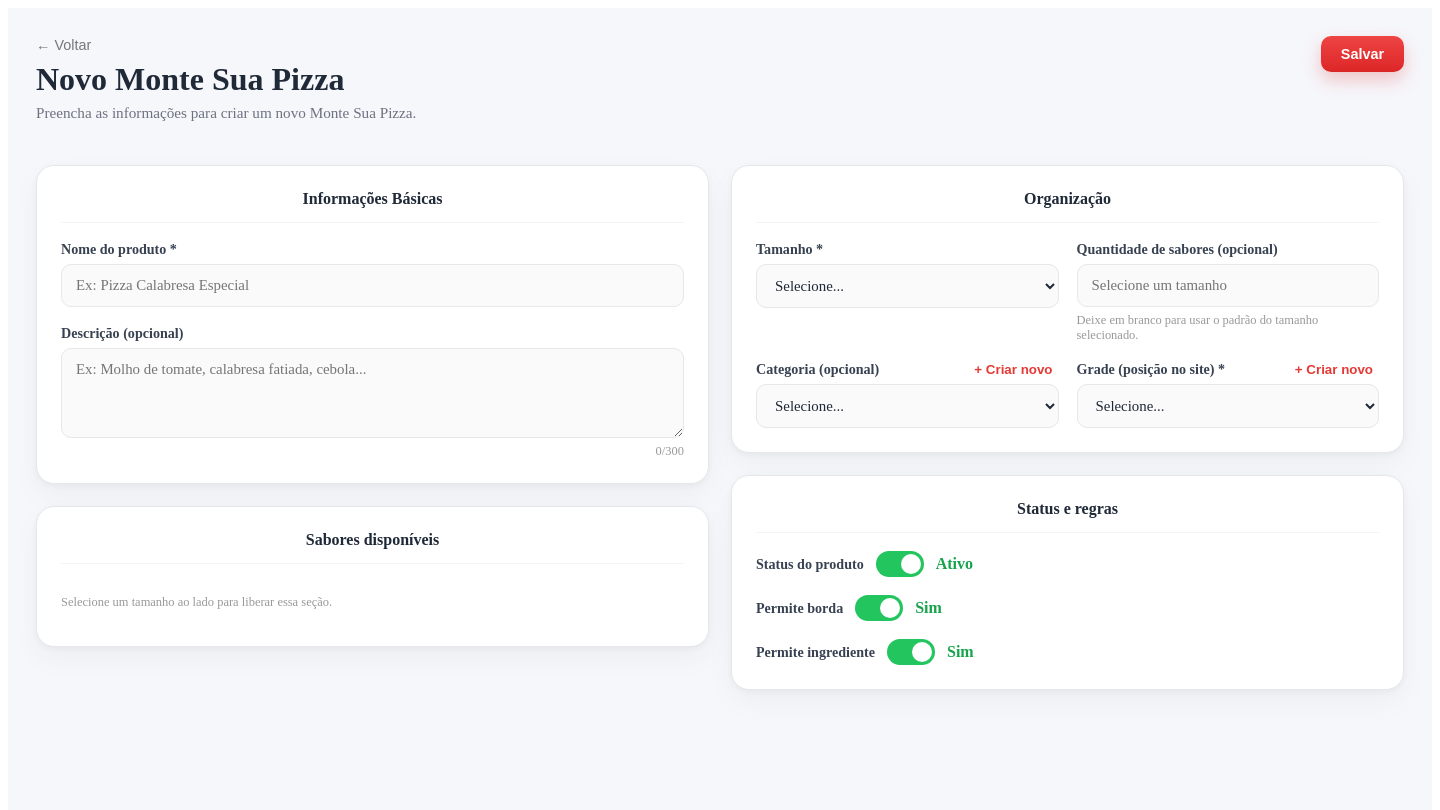
Test: NovoMonteSuaPizza (admin) › valida nome, tamanho e grade ao clicar em Salvar sem preencher nada
Click the button "Salvar". click: {"x": 1362, "y": 54}
box: [1321,36,1404,72]
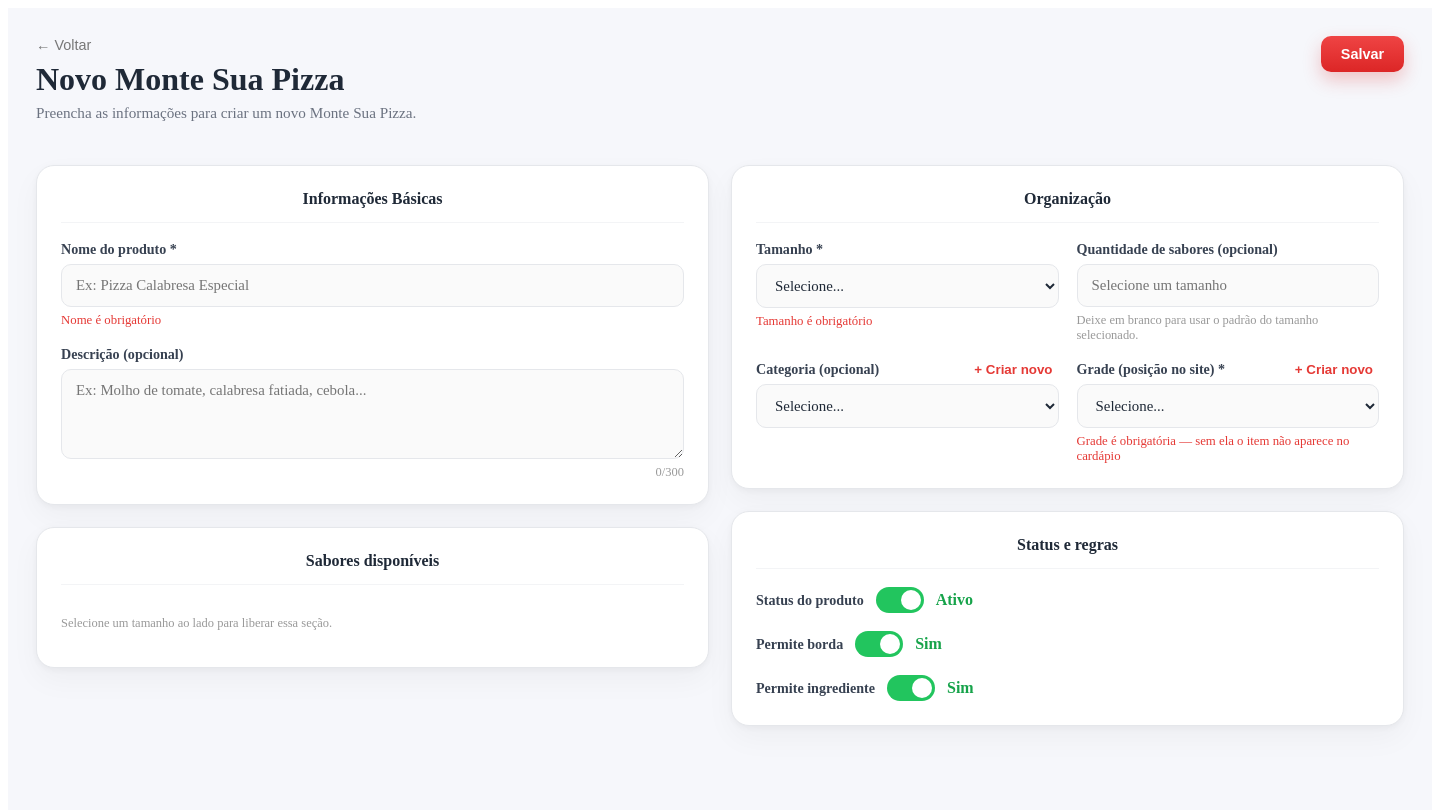
Check: the text "Nome é obrigatório" is shown, box [61,313,161,327]
Check: the text "Tamanho é obrigatório" is shown, box [756,314,872,328]
Check: the text "Grade é obrigatória — sem ela o item não aparece no cardápio" is shown, box [1076,434,1379,464]
